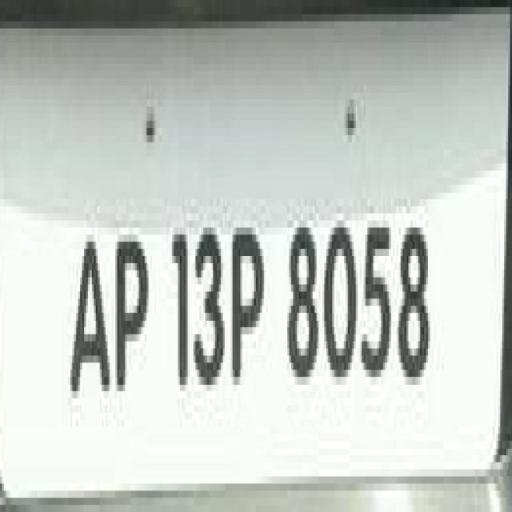number plate: (27, 28, 508, 498)
